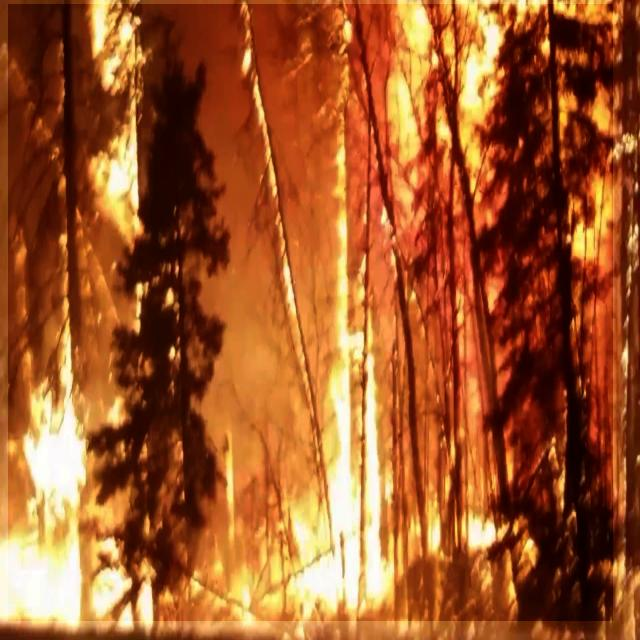Fire: (8, 4, 613, 621)
